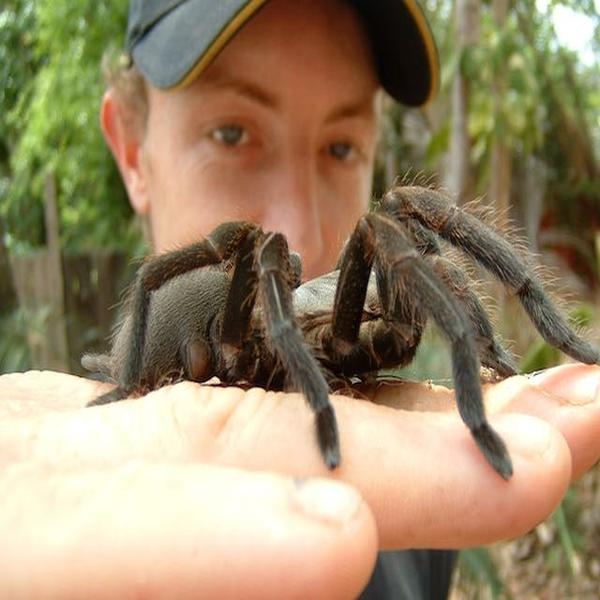Tarantula Spider: (94, 181, 587, 480)
